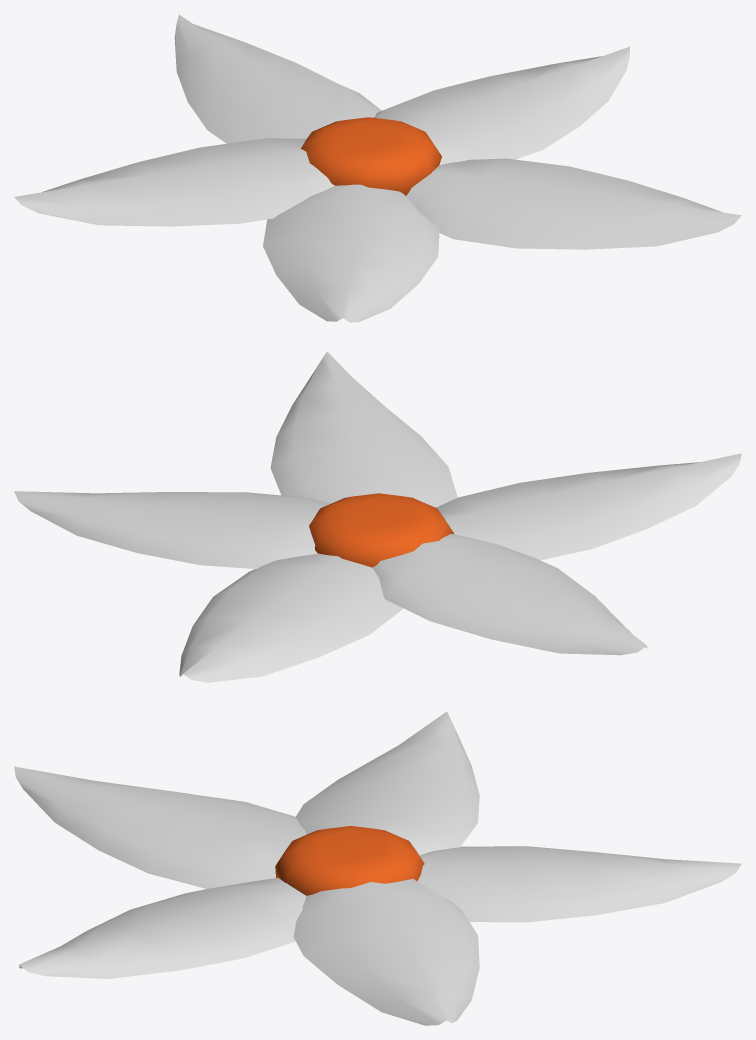
Rendered from flower.fbx.
3 views of the same model, one above another, from view 1: azimuth 30°, elevation 25°; view 2: azimuth 150°, elevation 25°; view 3: azimuth 270°, elevation 25° (orthographic). The views are drawn at different scales.
Visible parts, largest first — view 1: Cylinder.002, Cylinder.004, Cylinder.001, Cylinder, Cylinder.003, Sphere.002; view 2: Cylinder.004, Cylinder.003, Cylinder.001, Cylinder, Cylinder.002, Sphere.002; view 3: Cylinder, Cylinder.001, Cylinder.003, Cylinder.002, Cylinder.004, Sphere.002.
Boxes of the visible parts, box(x1,y1,x2,y2) form: Cylinder.002: box(406, 158, 741, 249); Cylinder.004: box(14, 138, 334, 226); Cylinder.001: box(263, 184, 439, 322); Cylinder: box(374, 46, 629, 165); Cylinder.003: box(174, 14, 381, 143); Sphere.002: box(301, 117, 441, 195); Cylinder.004: box(372, 534, 647, 655); Cylinder.003: box(179, 553, 402, 682); Cylinder.001: box(436, 453, 741, 560); Cylinder: box(14, 491, 330, 568); Cylinder.002: box(270, 351, 457, 507); Sphere.002: box(309, 493, 454, 567); Cylinder: box(293, 879, 479, 1025); Cylinder.001: box(14, 766, 306, 888); Cylinder.003: box(417, 846, 741, 922); Cylinder.002: box(19, 877, 306, 978); Cylinder.004: box(295, 711, 479, 855); Sphere.002: box(275, 826, 424, 895).
Size of the model in its own units: 725 by 52.54 by 722.
